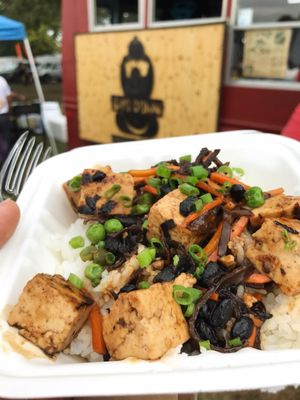curry: (0, 125, 299, 399)
